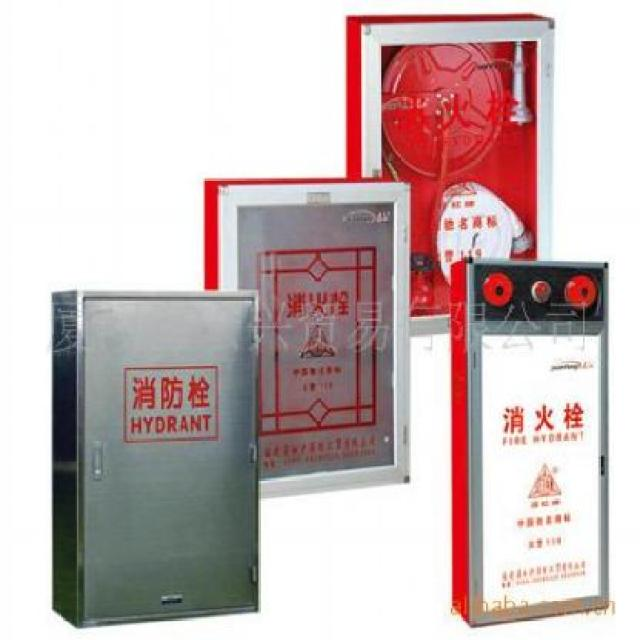firehydrant: (48, 284, 264, 634), (342, 9, 558, 343), (199, 174, 413, 504), (448, 252, 614, 630)
